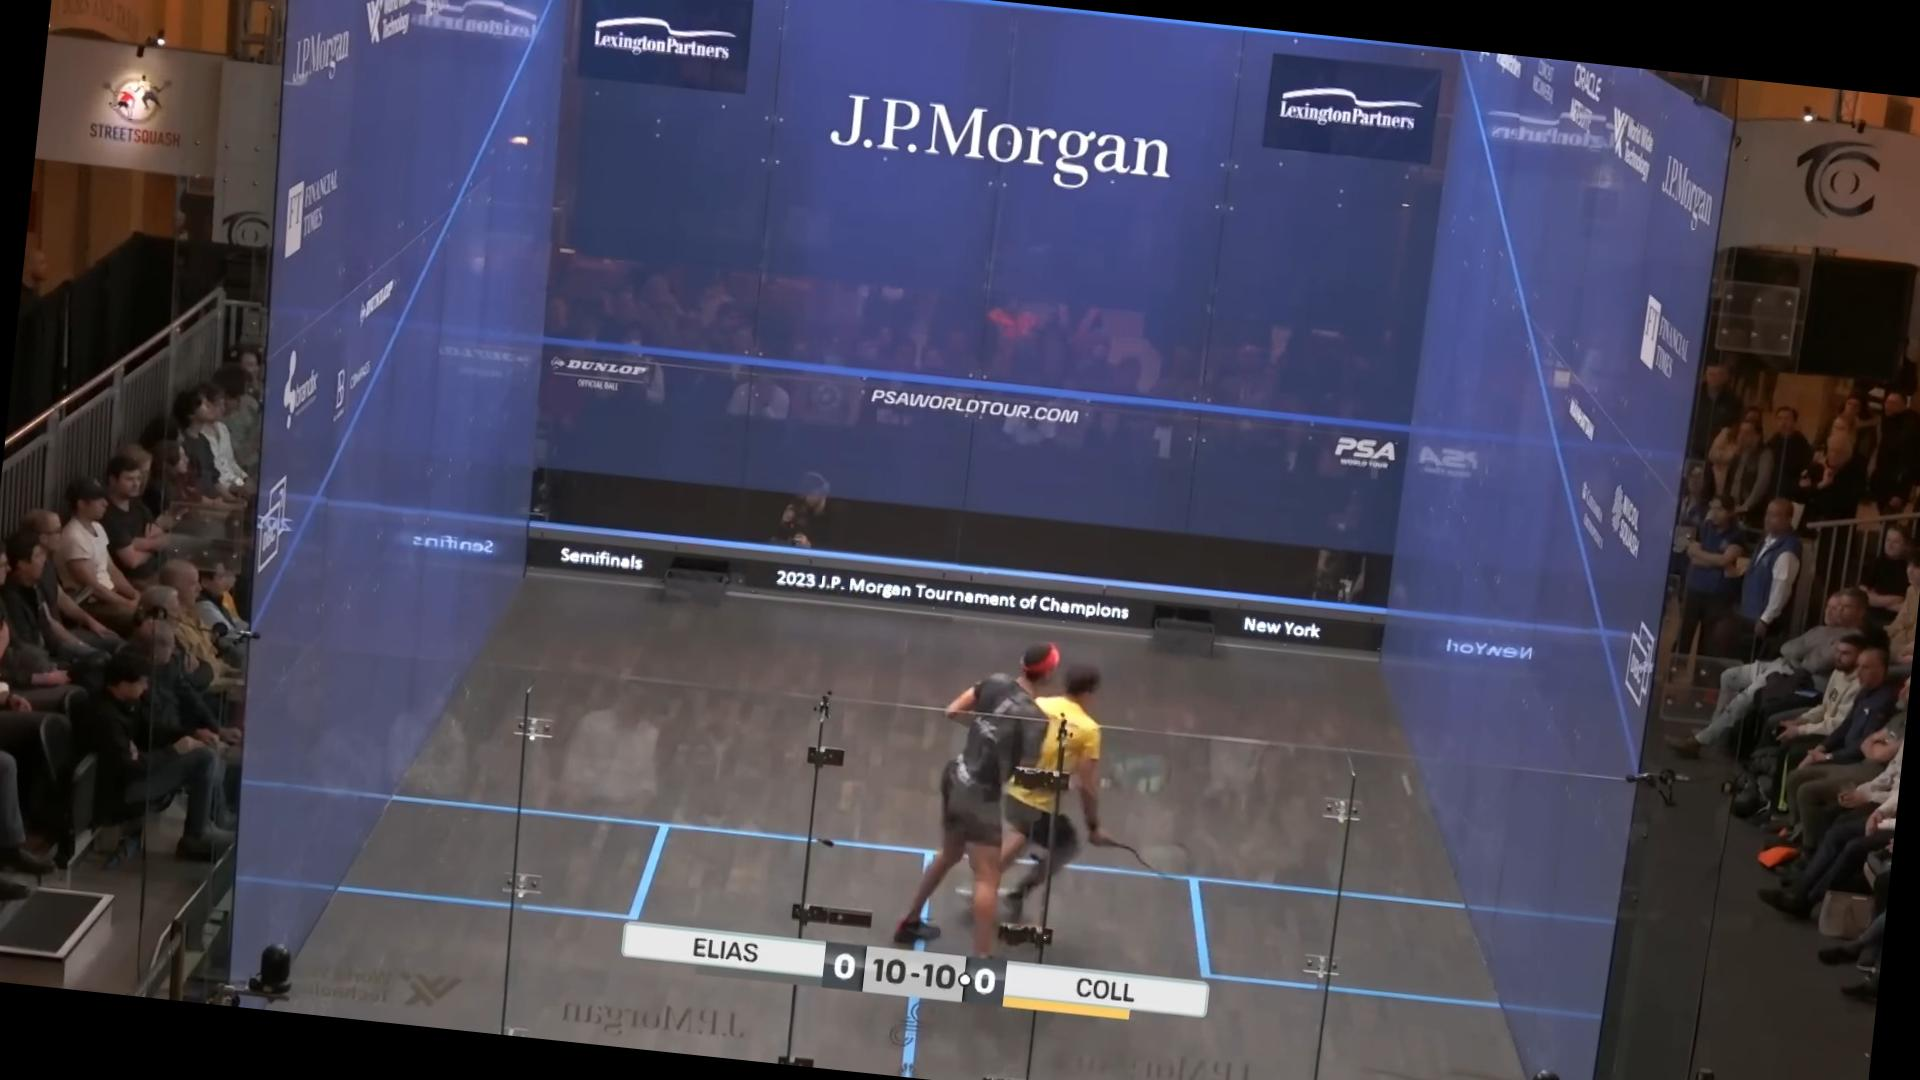Racket: (1084, 711, 1179, 785), (1092, 802, 1182, 872)
